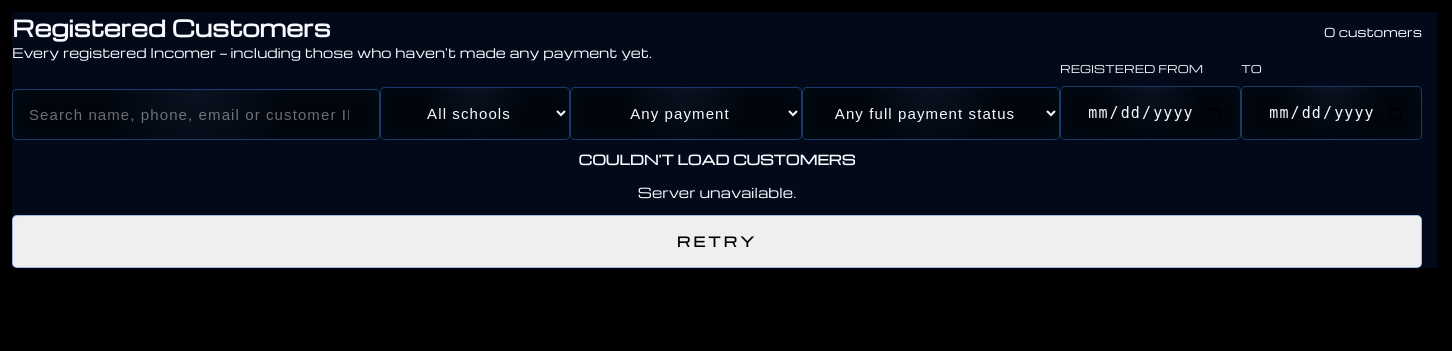
a load error keeps the filters visible and Retry reloads
Check: the text "Couldn't load customers" is shown, box [578,150,855,168]
Check: the search field named "Search customers" is shown, box [12,89,380,140]
Click the button "Retry": x=717, y=242 [12,215,1422,268]
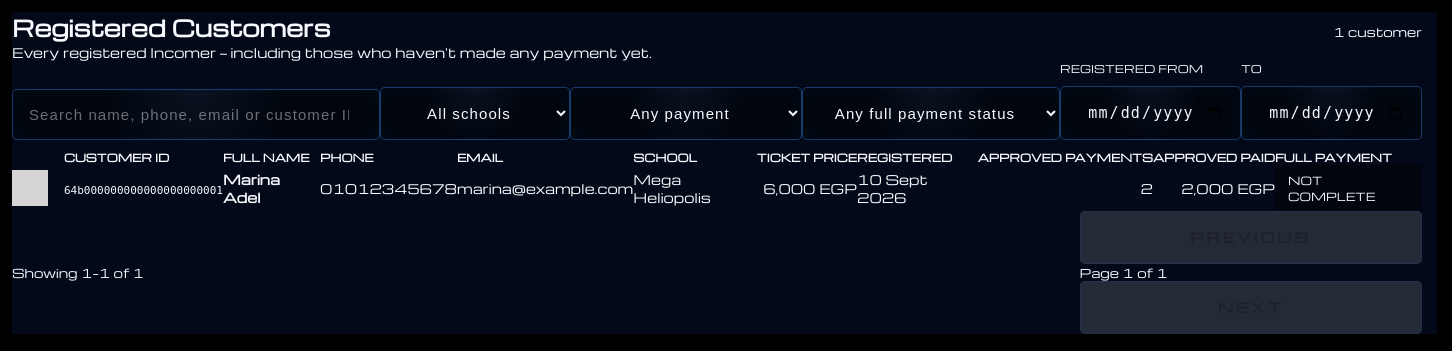
Check: the text "Marina Adel" is shown, box [223,165,320,211]
